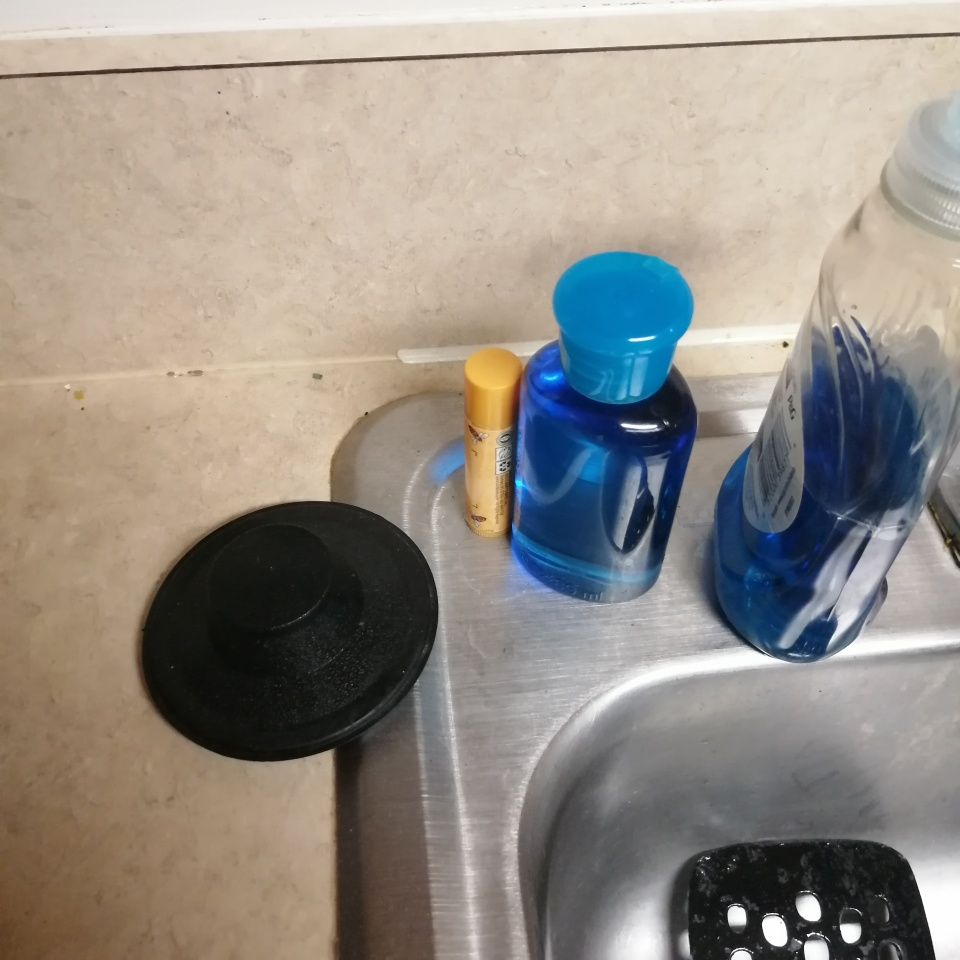chapstick: (463, 348, 524, 539)
